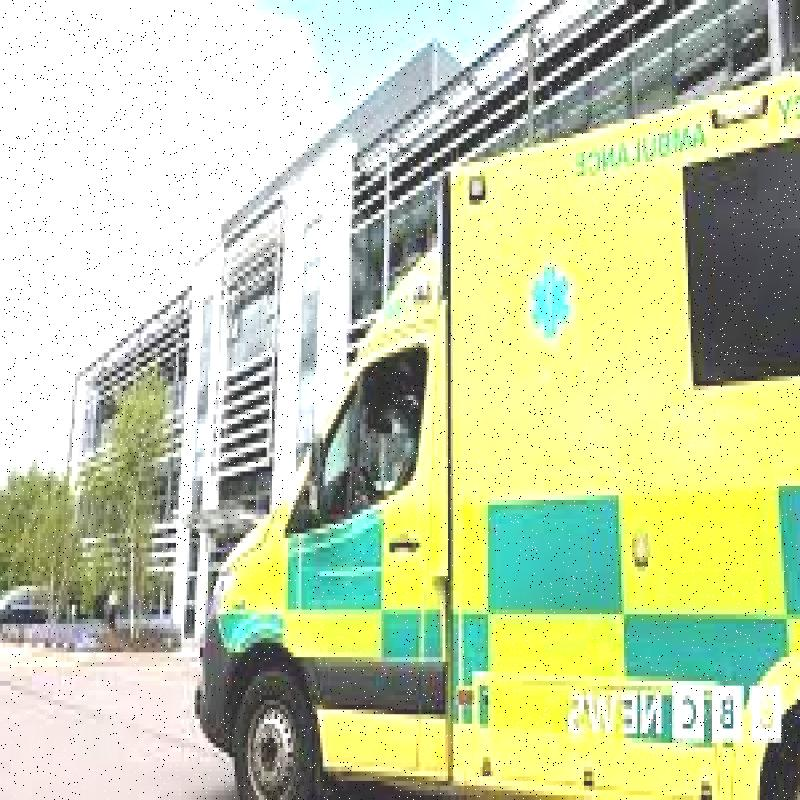ambulance: (200, 71, 787, 800)
